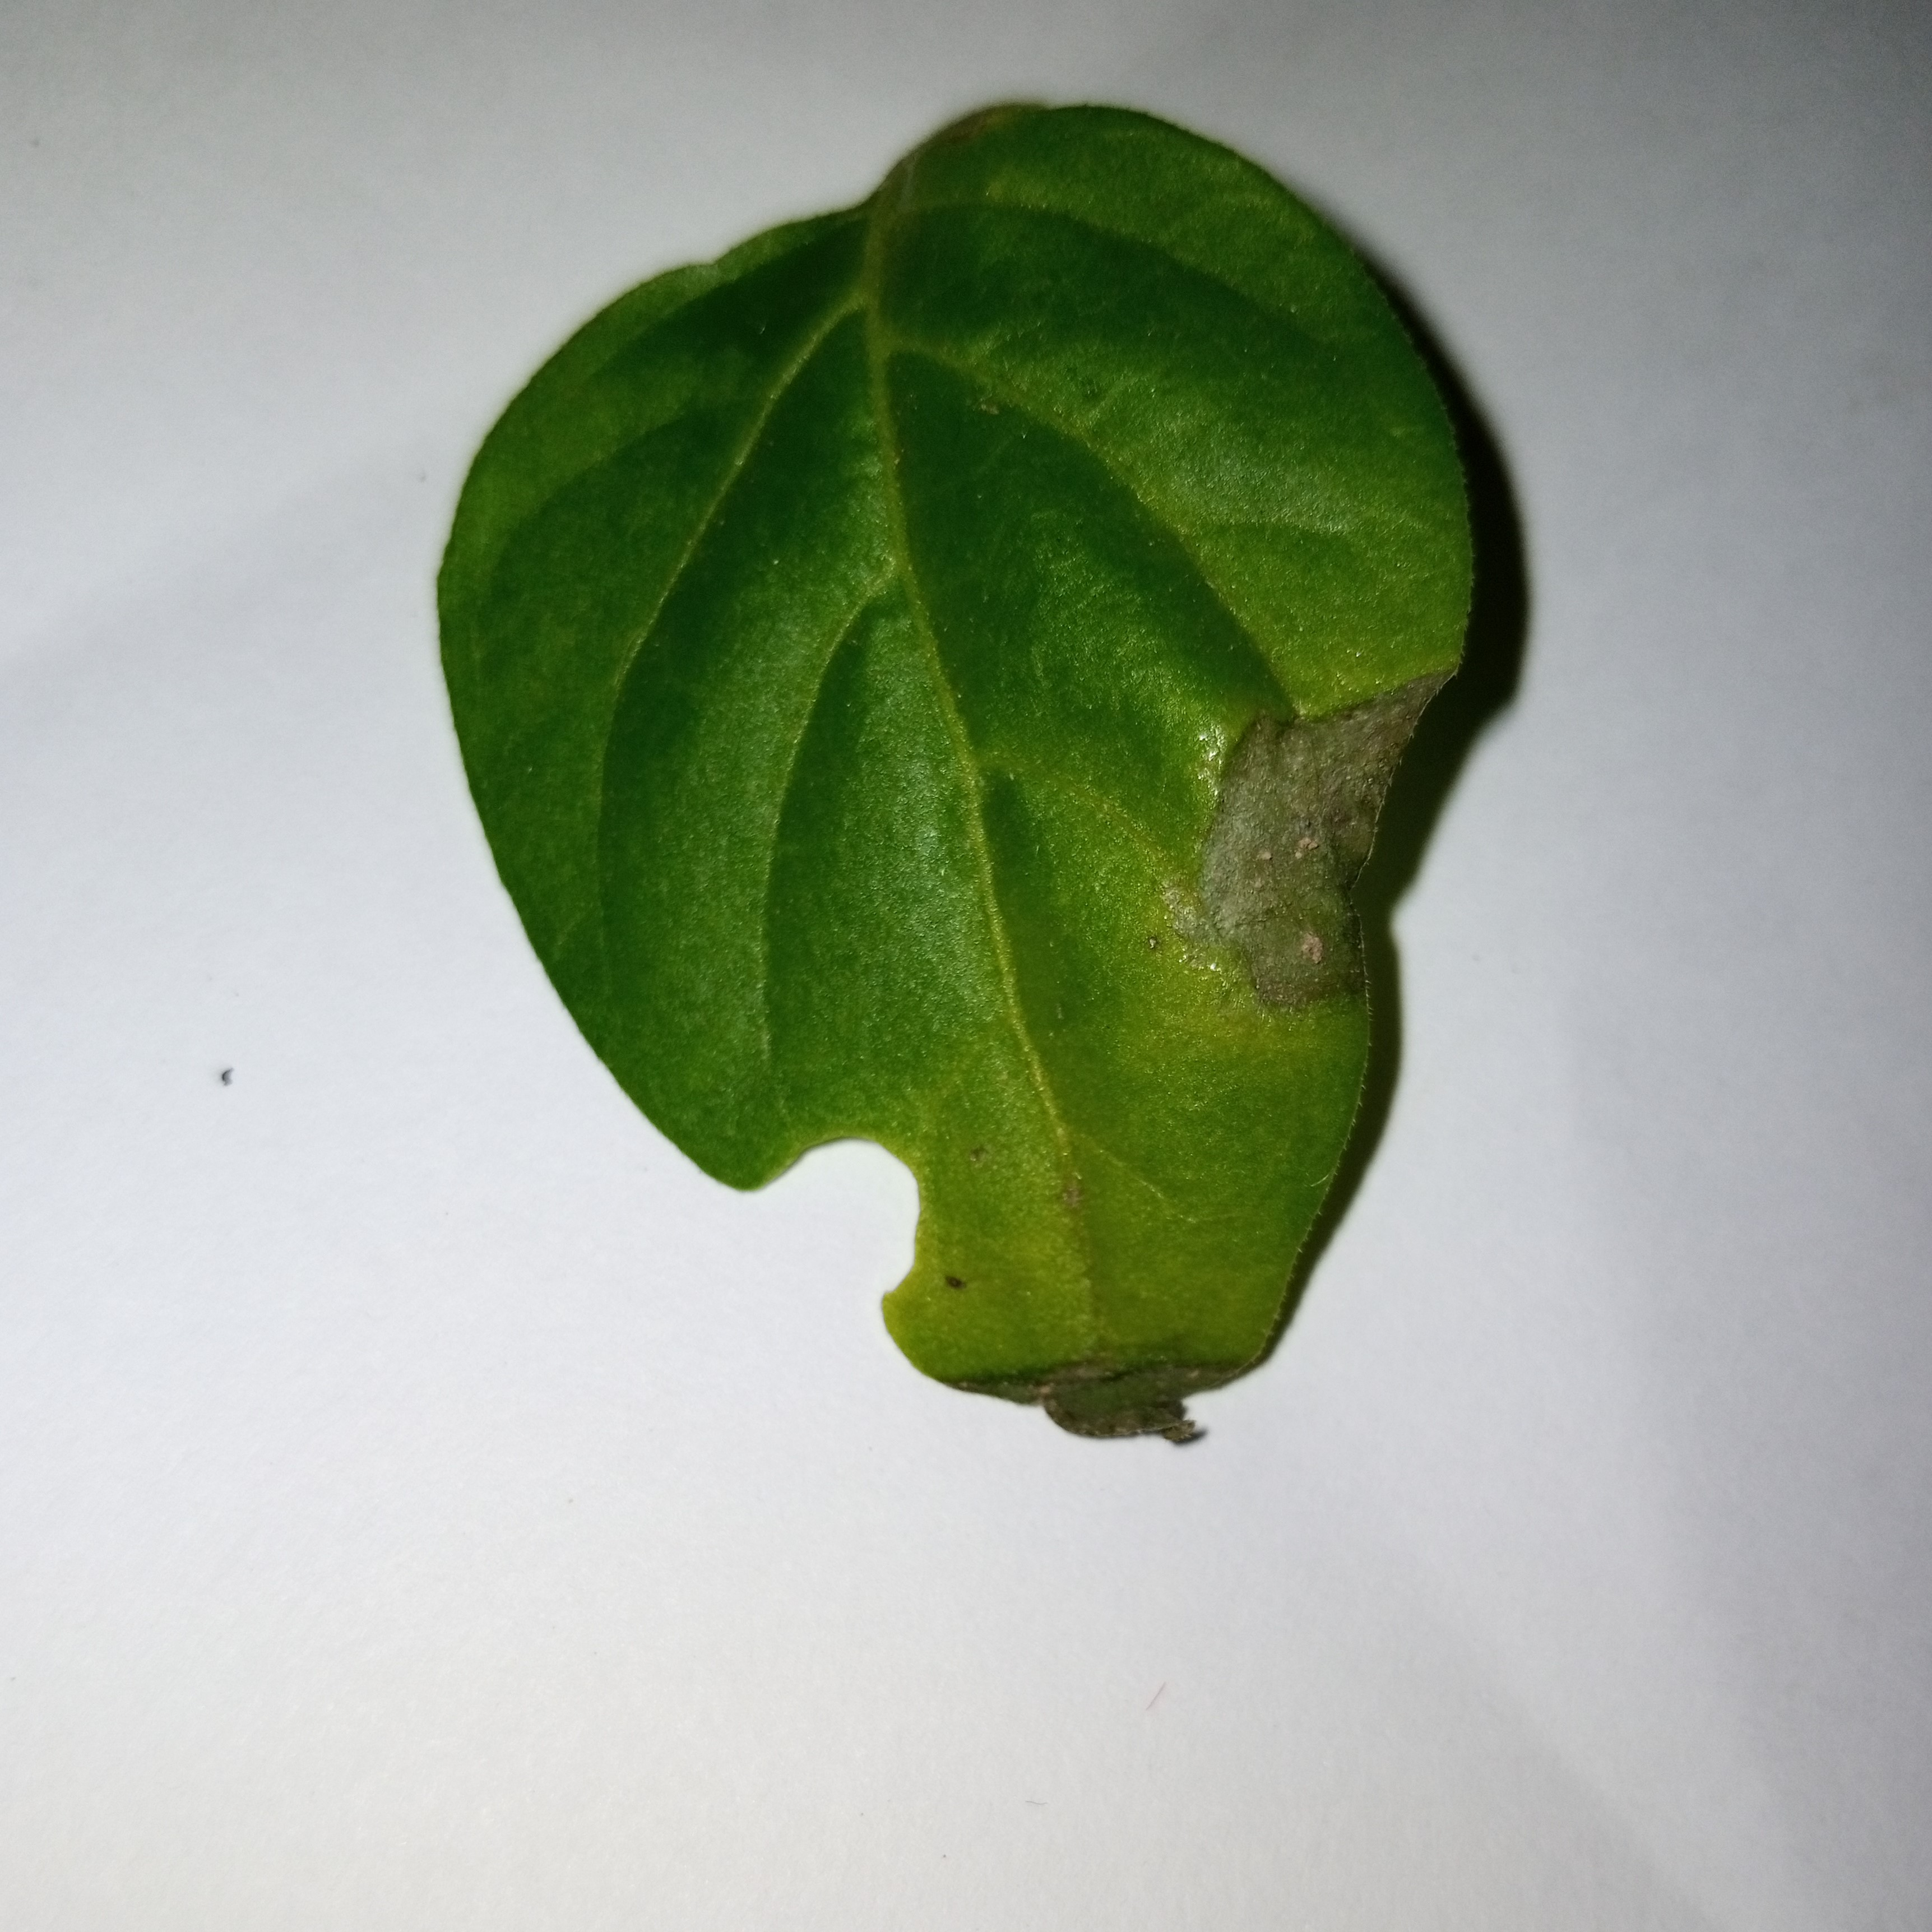Leaf: (375, 46, 1683, 1674)
